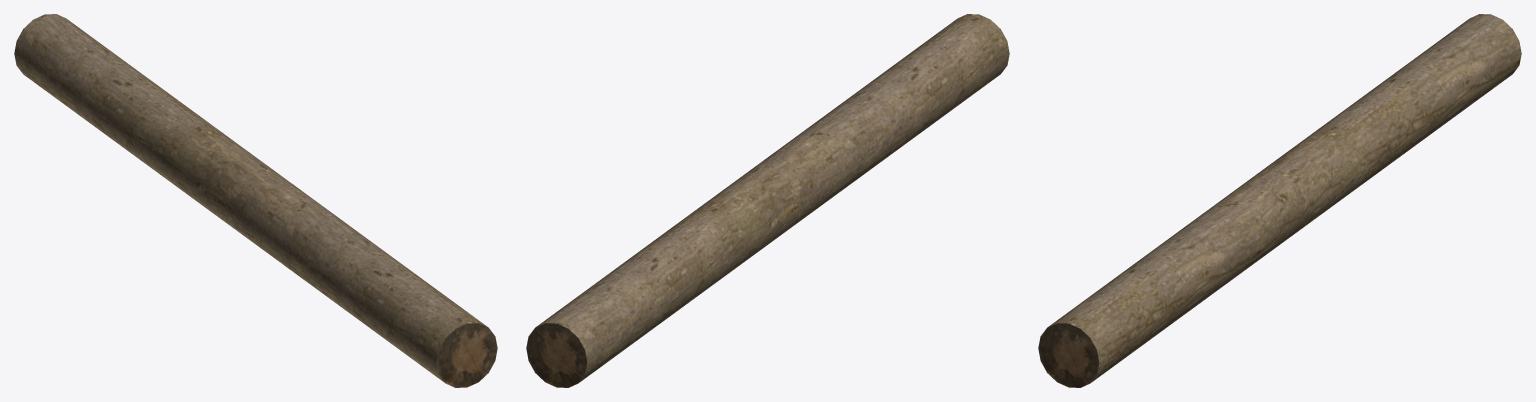
The model's file is SupportWoodA_S.glb.
3 views of the same model, side by side, from view 1: azimuth 30°, elevation 25°; view 2: azimuth 150°, elevation 25°; view 3: azimuth 330°, elevation 25° (orthographic).
Parts seen in each view (by area): view 1: SupportWoodA_S; view 2: SupportWoodA_S; view 3: SupportWoodA_S.
Boxes of the visible parts, x1,y1,x2,y2 form: SupportWoodA_S: (14, 14, 497, 387); SupportWoodA_S: (526, 14, 1009, 387); SupportWoodA_S: (1038, 14, 1521, 387).
Size of the model in its own units: 0.1 by 0.1 by 1.2.
1 material, 1 textured.
